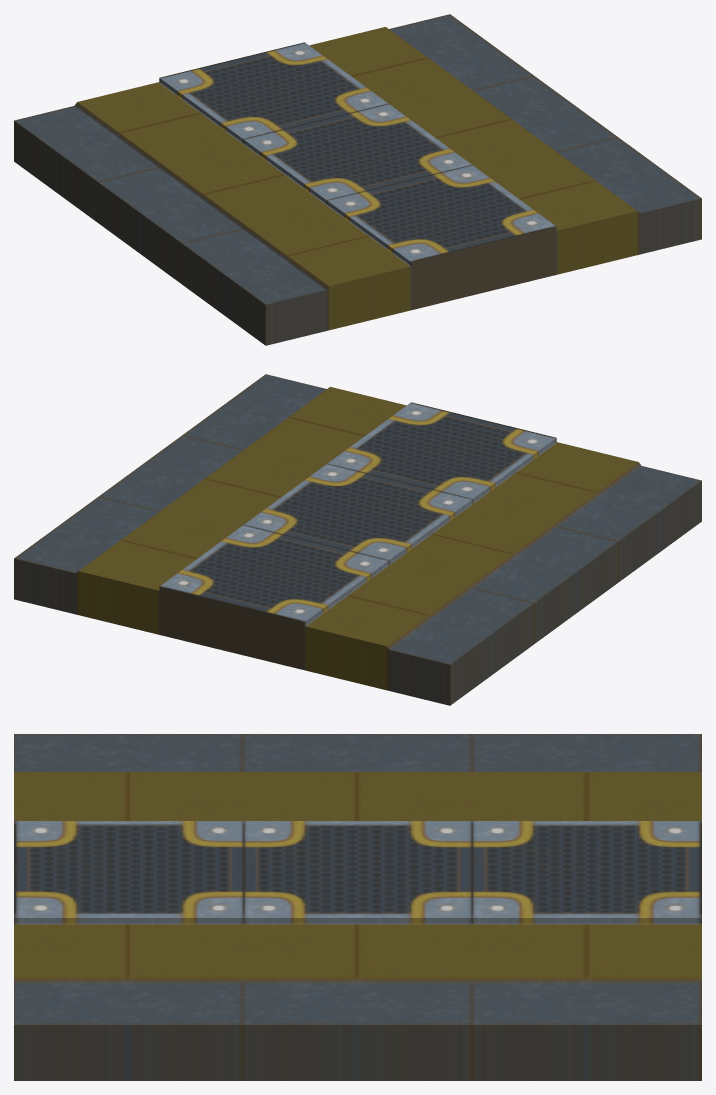
File: S_Floore04.fbx
The picture shows the model from 3 angles, top to bottom: view 1: azimuth 30°, elevation 25°; view 2: azimuth 150°, elevation 25°; view 3: azimuth 270°, elevation 25°; orthographic projection. The views are drawn at different scales.
Visible parts, largest first — view 1: S_Floore04; view 2: S_Floore04; view 3: S_Floore04.
Boxes of the visible parts, left/top/right/bottom form: S_Floore04: left=14, top=14, right=701, bottom=345; S_Floore04: left=14, top=374, right=701, bottom=705; S_Floore04: left=14, top=734, right=701, bottom=1080.
Size of the model in its own units: 200 by 21.17 by 200.
Materials: 1 (1 with a texture image).
